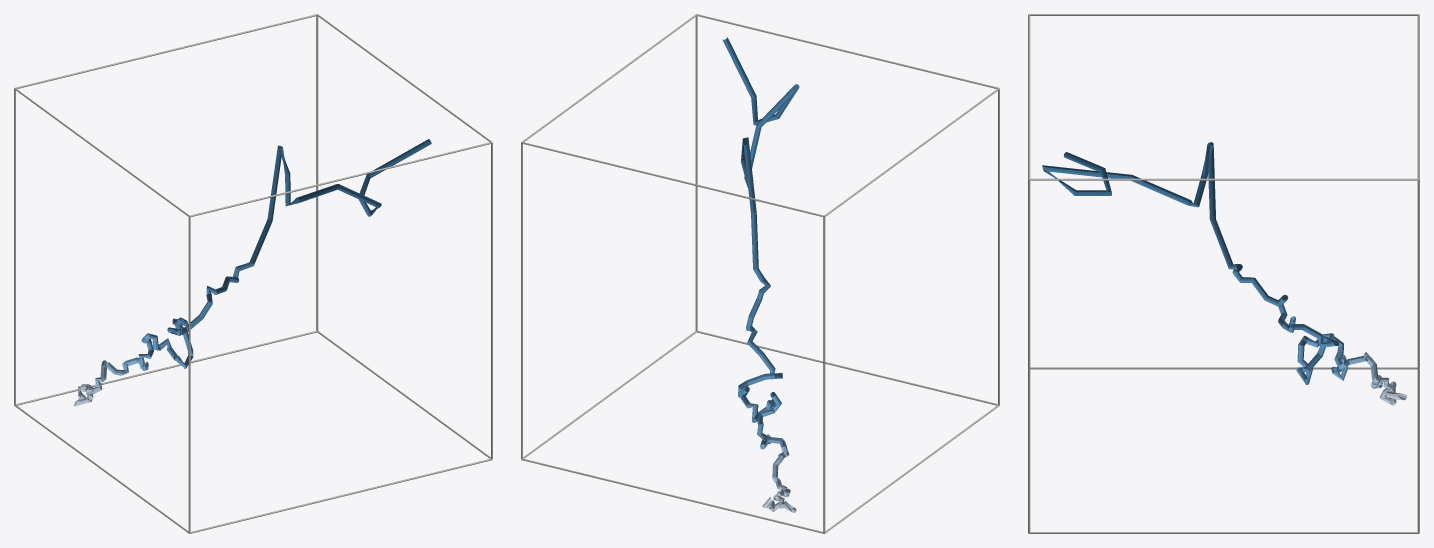
File: BT17_late.glb
3 renders of one model, left to right at view 1: azimuth 30°, elevation 25°; view 2: azimuth 150°, elevation 25°; view 3: azimuth 270°, elevation 25°, orthographic. The views are drawn at different scales.
Visible parts, largest first — view 1: geometry_1, geometry_0; view 2: geometry_1, geometry_0; view 3: geometry_1, geometry_0.
Part boxes in pixels (box(x1,y1,x2,y2)): geometry_1: box(14, 14, 492, 533); geometry_0: box(73, 139, 431, 406); geometry_1: box(521, 14, 999, 533); geometry_0: box(722, 37, 799, 512); geometry_1: box(1028, 14, 1419, 533); geometry_0: box(1042, 142, 1406, 405).
Size of the model in its own units: 0.3016 by 0.3044 by 0.3016.
